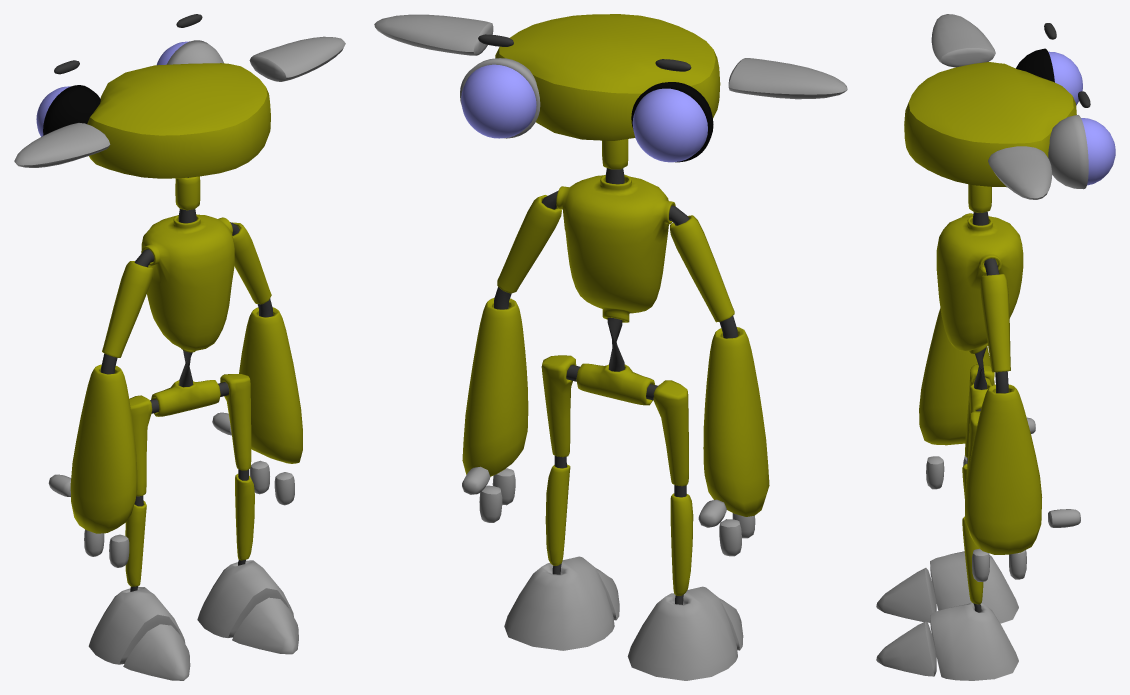
The model's file is die4.obj.
The picture shows the model from 3 angles, left to right: view 1: azimuth 30°, elevation 25°; view 2: azimuth 150°, elevation 25°; view 3: azimuth 270°, elevation 25°; orthographic projection. The views are drawn at different scales.
Visible parts, largest first — view 1: Mesh polySurface50, Mesh polySurface41, Mesh polySurface18, Mesh polySurface48, Mesh polySurface37, Mesh polySurface10, Mesh polySurface26, Mesh polySurface24, Mesh polySurface8, Mesh polySurface51, Mesh polySurface44, Mesh polySurface12 (+13 smaller); view 2: Mesh polySurface41, Mesh polySurface50, Mesh polySurface18, Mesh polySurface37, Mesh polySurface10, Mesh polySurface26, Mesh polySurface48, Mesh polySurface22, Mesh polySurface6, Mesh polySurface44, Mesh polySurface51, Mesh polySurface47 (+9 smaller); view 3: Mesh polySurface37, Mesh polySurface50, Mesh polySurface41, Mesh polySurface10, Mesh polySurface18, Mesh polySurface48, Mesh polySurface26, Mesh polySurface47, Mesh polySurface21, Mesh polySurface38, Mesh polySurface8, Mesh polySurface24 (+14 smaller).
Boxes of the visible parts, <box> form: Mesh polySurface50: <box>90,63,266,135</box>; Mesh polySurface41: <box>141,214,234,352</box>; Mesh polySurface18: <box>70,364,137,533</box>; Mesh polySurface48: <box>87,88,270,178</box>; Mesh polySurface37: <box>239,307,302,463</box>; Mesh polySurface10: <box>197,560,293,637</box>; Mesh polySurface26: <box>88,587,185,664</box>; Mesh polySurface24: <box>123,624,190,680</box>; Mesh polySurface8: <box>232,597,298,654</box>; Mesh polySurface51: <box>102,261,152,357</box>; Mesh polySurface44: <box>14,123,110,165</box>; Mesh polySurface12: <box>220,374,251,470</box>; Mesh polySurface41: <box>556,174,675,322</box>; Mesh polySurface50: <box>499,14,715,93</box>; Mesh polySurface18: <box>703,327,769,516</box>; Mesh polySurface37: <box>462,297,528,476</box>; Mesh polySurface10: <box>504,556,614,650</box>; Mesh polySurface26: <box>627,586,737,680</box>; Mesh polySurface48: <box>495,47,720,140</box>; Mesh polySurface22: <box>461,64,536,138</box>; Mesh polySurface6: <box>632,88,707,162</box>; Mesh polySurface44: <box>728,58,847,94</box>; Mesh polySurface51: <box>670,215,734,322</box>; Mesh polySurface47: <box>374,14,489,51</box>; Mesh polySurface37: <box>965,384,1042,554</box>; Mesh polySurface50: <box>909,62,1073,143</box>; Mesh polySurface41: <box>936,213,1023,353</box>; Mesh polySurface10: <box>930,602,1018,680</box>; Mesh polySurface18: <box>919,308,994,445</box>; Mesh polySurface48: <box>904,96,1076,187</box>; Mesh polySurface26: <box>930,551,1018,623</box>; Mesh polySurface47: <box>988,146,1051,198</box>; Mesh polySurface21: <box>1048,115,1088,189</box>; Mesh polySurface38: <box>980,274,1010,372</box>; Mesh polySurface8: <box>876,621,934,676</box>; Mesh polySurface24: <box>876,568,932,622</box>.
Size of the model in its own units: 9.83 by 14.23 by 5.44.
